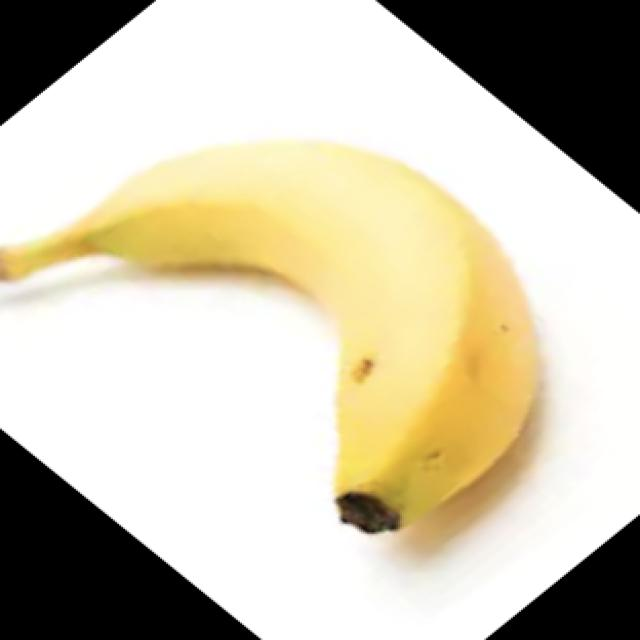god quality banana: (2, 141, 537, 533)
